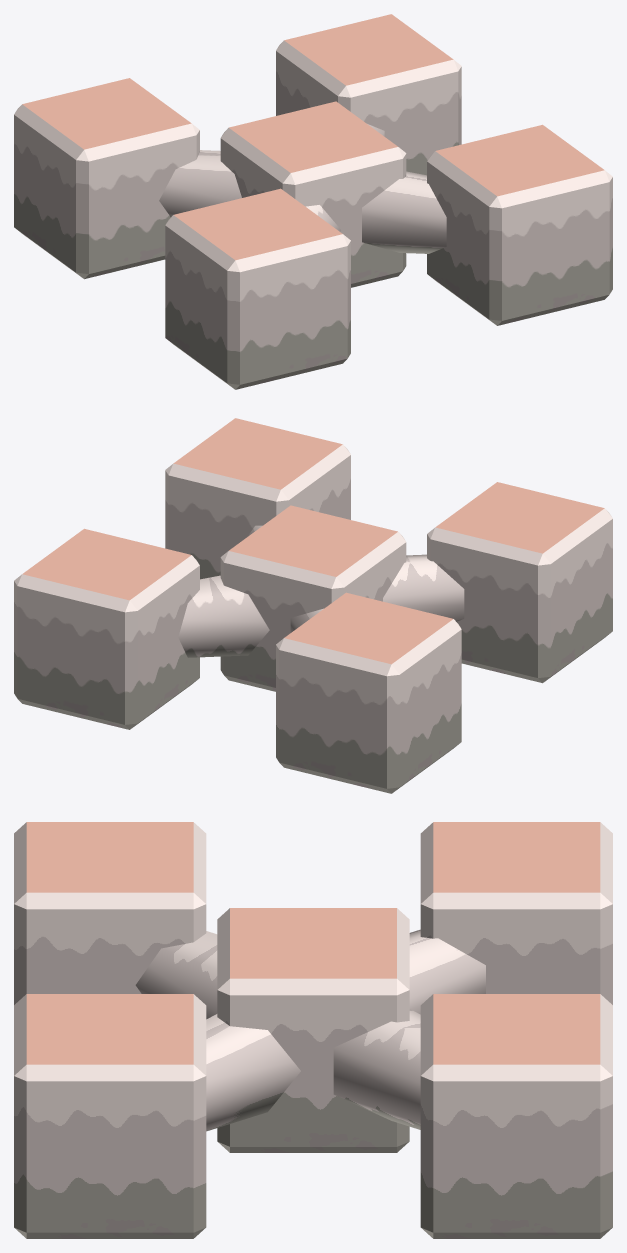
File: R4C_STRUT_CROSS_LOD1.glb
3 renders of one model, top to bottom at view 1: azimuth 30°, elevation 25°; view 2: azimuth 150°, elevation 25°; view 3: azimuth 270°, elevation 25°, orthographic. The views are drawn at different scales.
Visible parts, largest first — view 1: R4C_STRUT_CROSS_LOD1; view 2: R4C_STRUT_CROSS_LOD1; view 3: R4C_STRUT_CROSS_LOD1.
Boxes of the visible parts, x1=… form: R4C_STRUT_CROSS_LOD1: x1=14, y1=14, x2=612, y2=389; R4C_STRUT_CROSS_LOD1: x1=14, y1=418, x2=612, y2=793; R4C_STRUT_CROSS_LOD1: x1=14, y1=822, x2=612, y2=1238.
Bounding box in the file's own units: 1.62 × 0.52 × 1.62.
3 materials, 3 textured.
